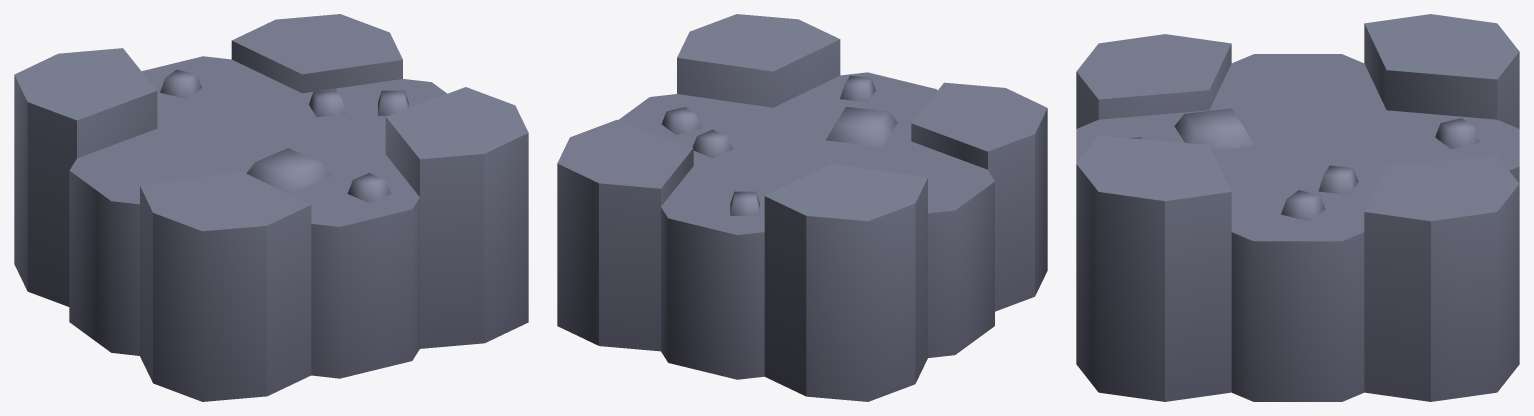
File: rocks.glb
The picture shows the model from 3 angles, left to right: view 1: azimuth 30°, elevation 25°; view 2: azimuth 150°, elevation 25°; view 3: azimuth 270°, elevation 25°; orthographic projection. The views are drawn at different scales.
Parts seen in each view (by area): view 1: rocks; view 2: rocks; view 3: rocks.
Part boxes in pixels (left/top/right/bottom): rocks: left=14, top=14, right=528, bottom=401; rocks: left=557, top=14, right=1047, bottom=401; rocks: left=1076, top=14, right=1519, bottom=401.
Bounding box in the file's own units: 1 × 0.5 × 1.
1 material, 1 textured.
